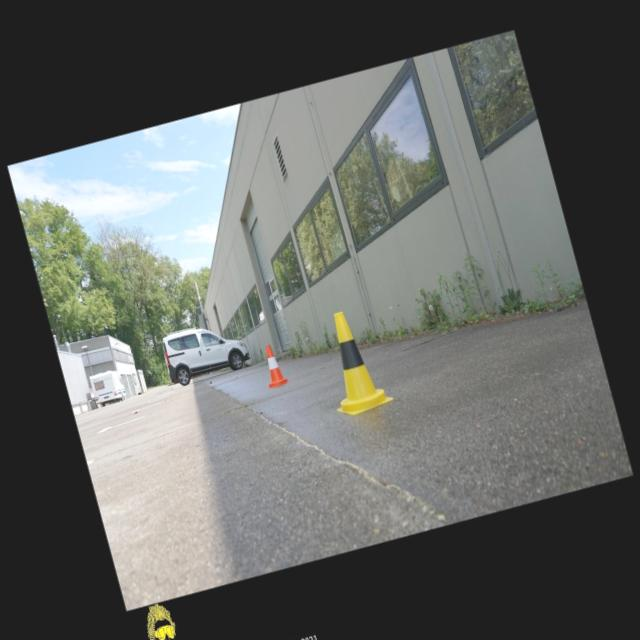orange_cone: (257, 341, 289, 388)
yellow_cone: (312, 303, 394, 417)
